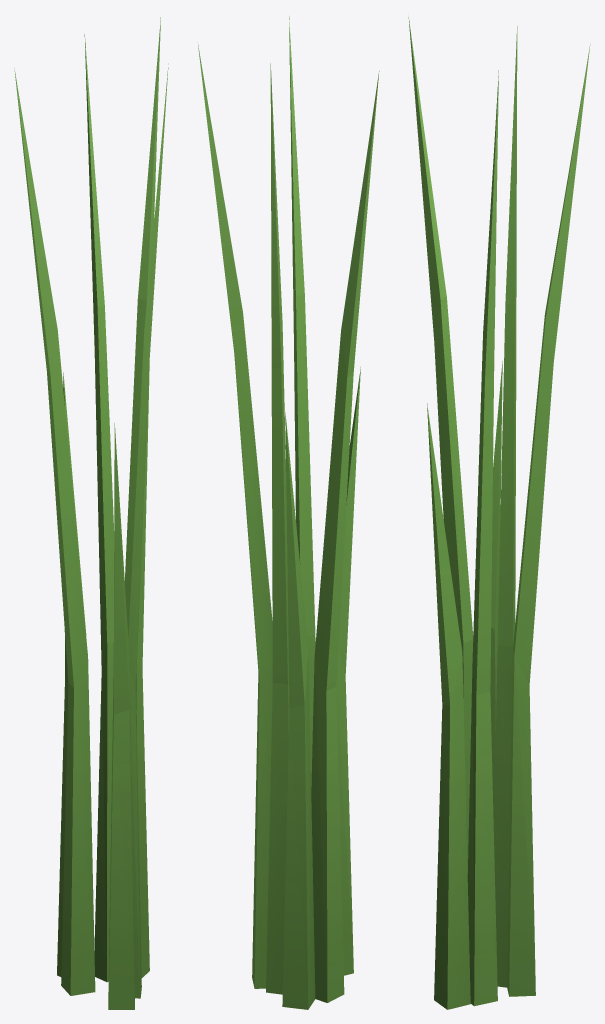
File: grass_reed.glb
3 views of the same model, side by side, from view 1: azimuth 30°, elevation 25°; view 2: azimuth 150°, elevation 25°; view 3: azimuth 330°, elevation 25° (orthographic).
Visible parts, largest first — view 1: GrassHigh_D_1; view 2: GrassHigh_D_1; view 3: GrassHigh_D_1.
Boxes of the visible parts, <box> form: GrassHigh_D_1: <box>14,17,168,1009</box>; GrassHigh_D_1: <box>197,16,379,1009</box>; GrassHigh_D_1: <box>408,17,590,1009</box>.
Size of the model in its own units: 0.0824 by 0.45 by 0.0551.
Materials: 1 (1 with a texture image).
